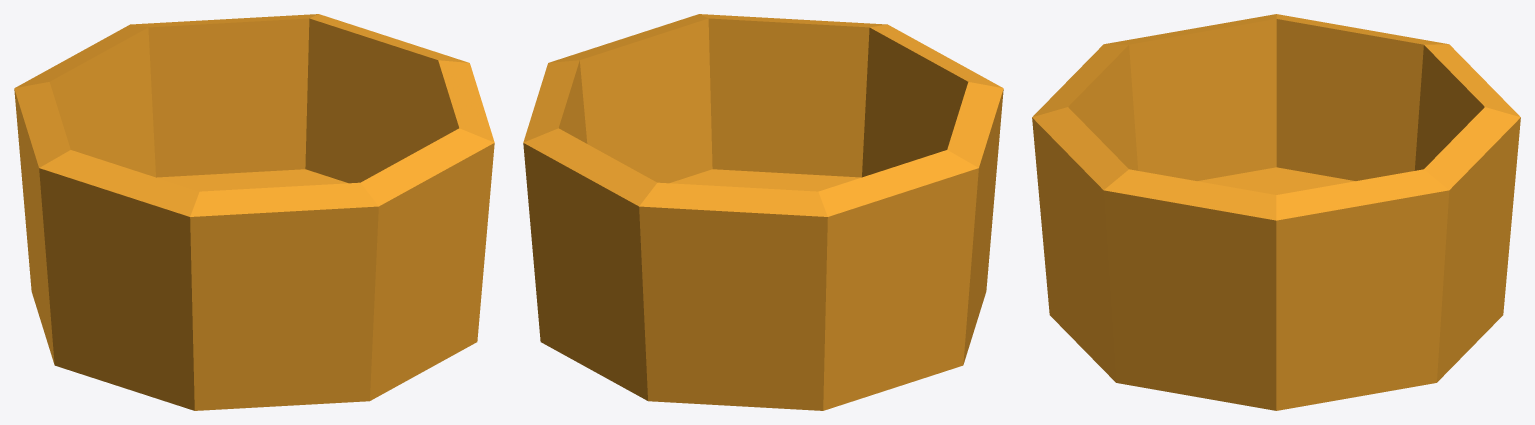
The model's file is SM_Bowl_Rabbit_A.fbx.
3 renders of one model, left to right at view 1: azimuth 30°, elevation 25°; view 2: azimuth 150°, elevation 25°; view 3: azimuth 270°, elevation 25°, orthographic.
Parts seen in each view (by area): view 1: bowl-rabbit-a; view 2: bowl-rabbit-a; view 3: bowl-rabbit-a.
Part boxes in pixels (bbox=[...]): bowl-rabbit-a: bbox=[14, 14, 494, 410]; bowl-rabbit-a: bbox=[523, 14, 1003, 410]; bowl-rabbit-a: bbox=[1032, 14, 1520, 410].
Size of the model in its own units: 0.2 by 0.094 by 0.2.
